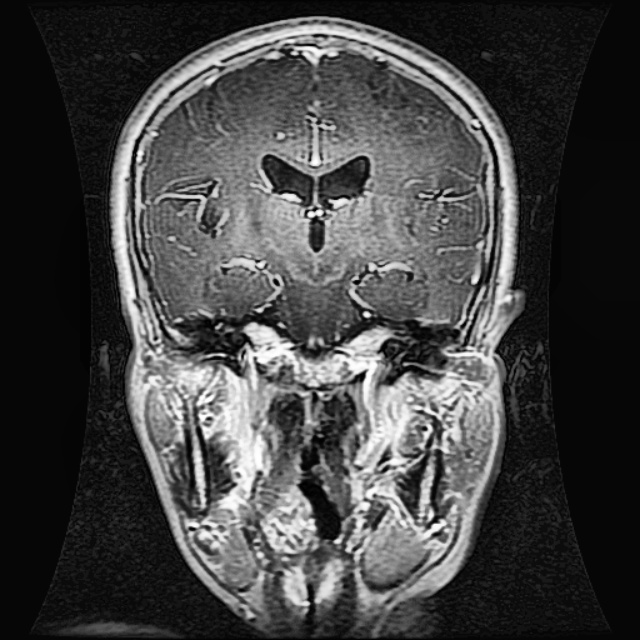Meningioma: (152, 173, 235, 237)
